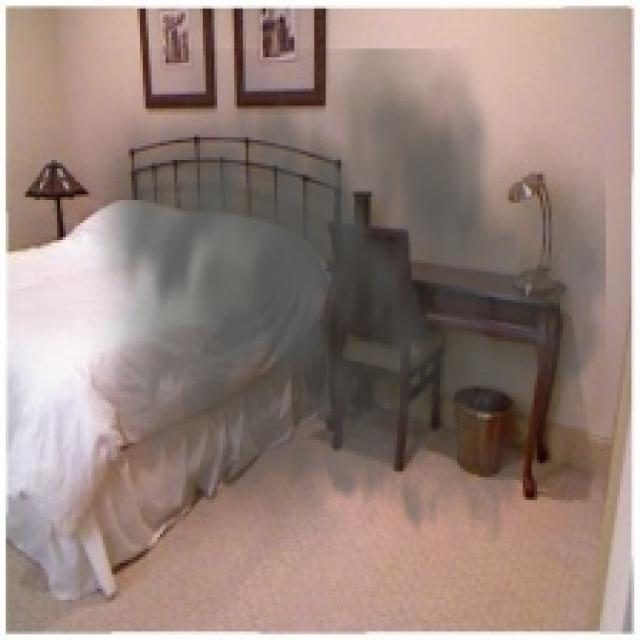Smoke: (69, 48, 606, 594)
